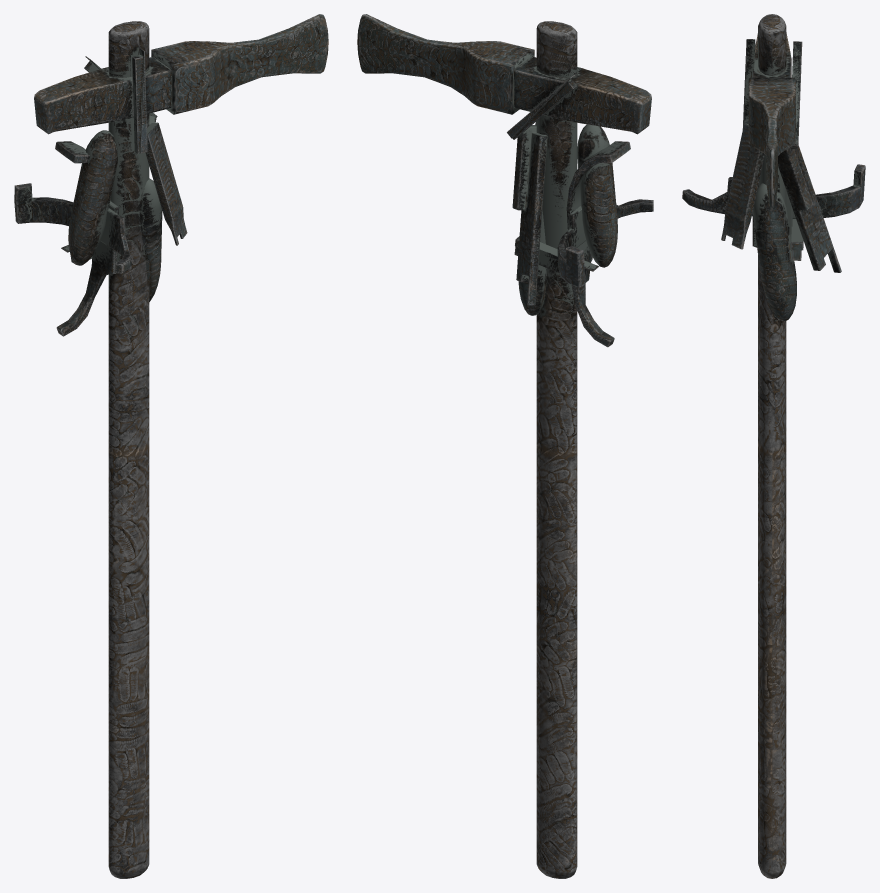
Rendered from SM_axe.FBX.
The picture shows the model from 3 angles, left to right: view 1: azimuth 30°, elevation 25°; view 2: azimuth 150°, elevation 25°; view 3: azimuth 270°, elevation 25°; orthographic projection.
Parts seen in each view (by area): view 1: SM_axe; view 2: SM_axe; view 3: SM_axe.
Part boxes in pixels (bbox=[...]): SM_axe: bbox=[14, 14, 328, 878]; SM_axe: bbox=[357, 14, 653, 878]; SM_axe: bbox=[682, 14, 865, 878].
Bounding box in the file's own units: 26.07 × 14.25 × 72.88.
